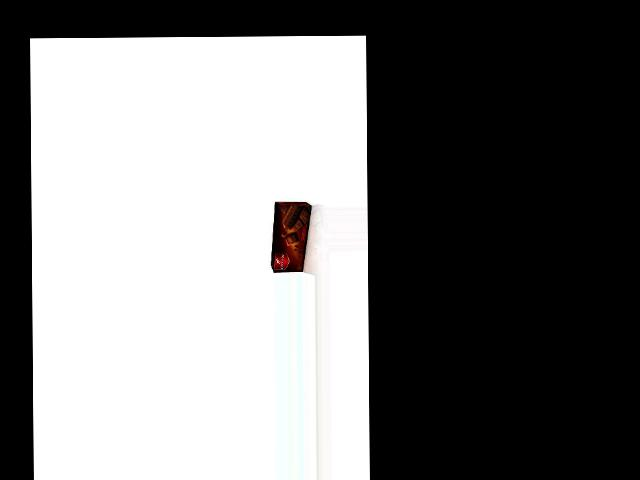chocolate: (269, 202, 313, 272)
